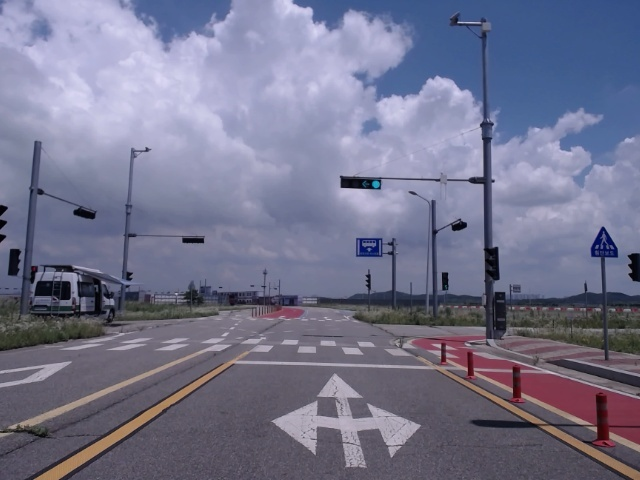all_green_4: (339, 176, 382, 191)
